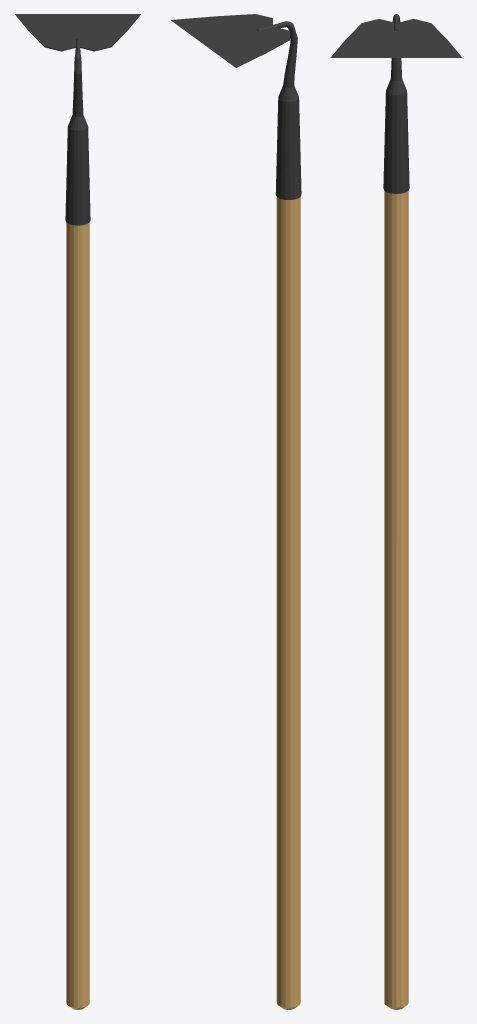
File: GardenHoePractice.fbx
3 renders of one model, left to right at view 1: azimuth 90°, elevation 25°; view 2: azimuth 210°, elevation 25°; view 3: azimuth 270°, elevation 25°, orthographic. The views are drawn at different scales.
Visible parts, largest first — view 1: Handle, Plow; view 2: Handle, Plow; view 3: Handle, Plow.
Boxes of the visible parts, x1,y1,x2,y2 form: Handle: [65, 38, 90, 1009]; Plow: [15, 14, 140, 51]; Handle: [257, 21, 301, 1009]; Plow: [171, 14, 290, 67]; Handle: [383, 14, 409, 1009]; Plow: [330, 19, 462, 57].
Bounding box in the file's own units: 33.55 × 327 × 39.44.
